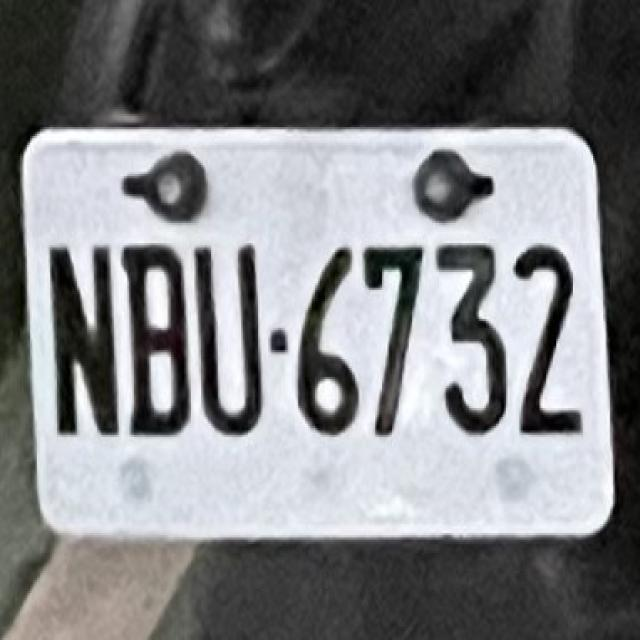license-plate: (24, 116, 602, 558)
